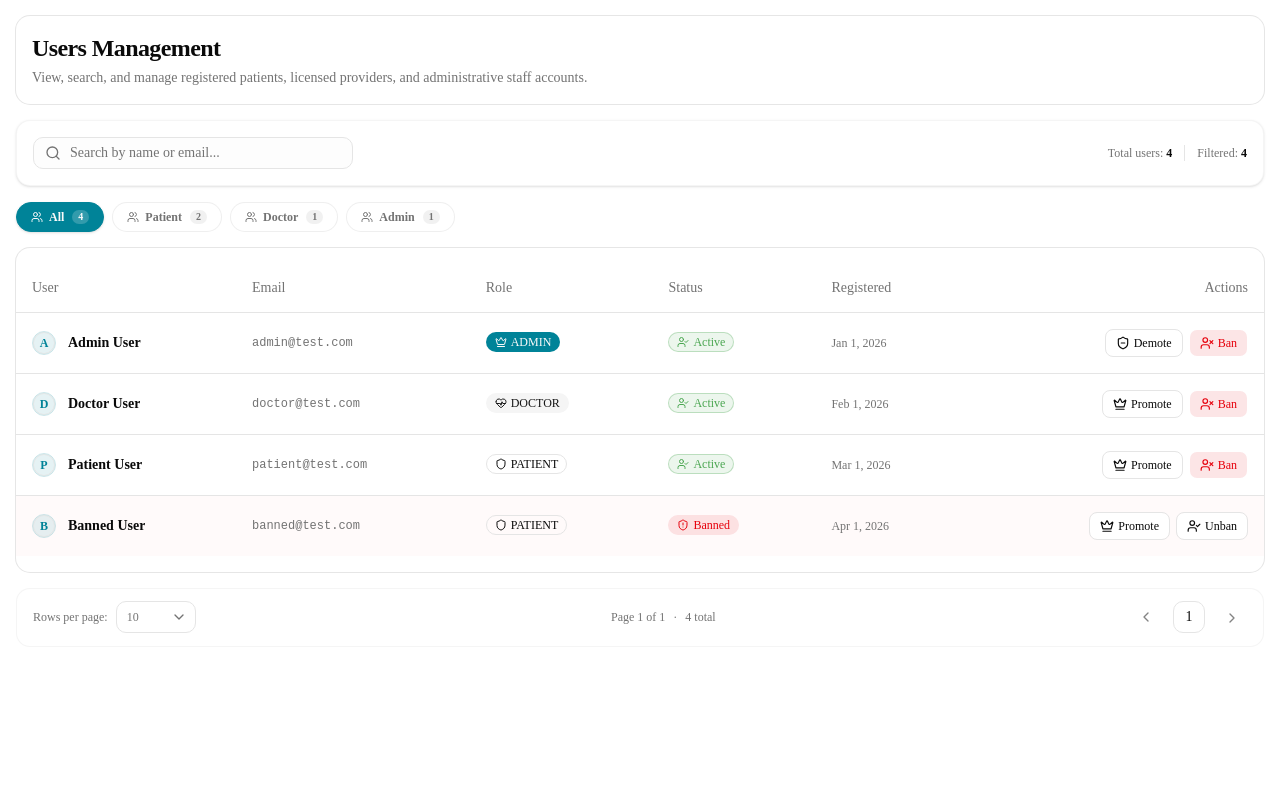
Test case: AdminUsersPage › filters users by search query
Expected: the text "Users Management" is shown, [32,35,220,61]
Expected: the text "Rows per page:" is shown, [33,609,108,625]
Type "doctor" into the field with placeholder "Search by name or email..." at (193, 153), box [33,137,353,169]
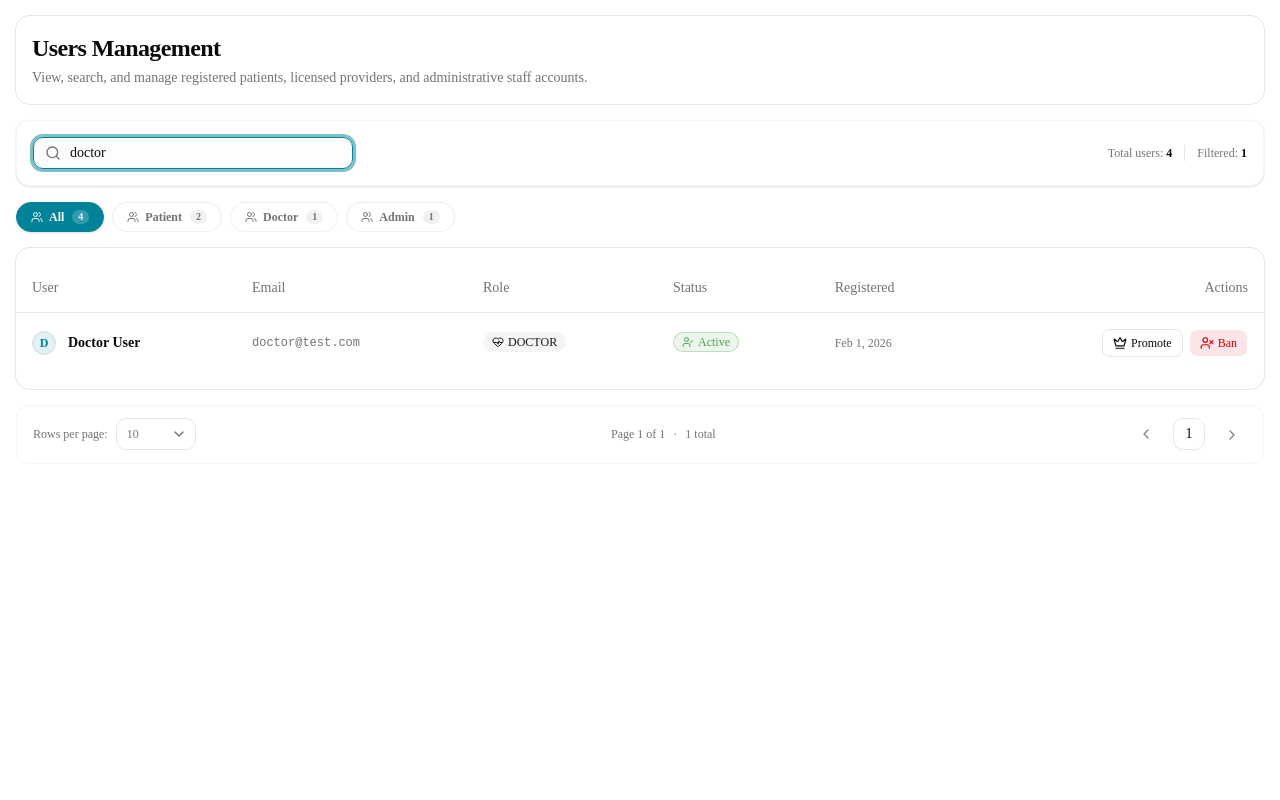
Result: the text "admin@test.com" is gone
